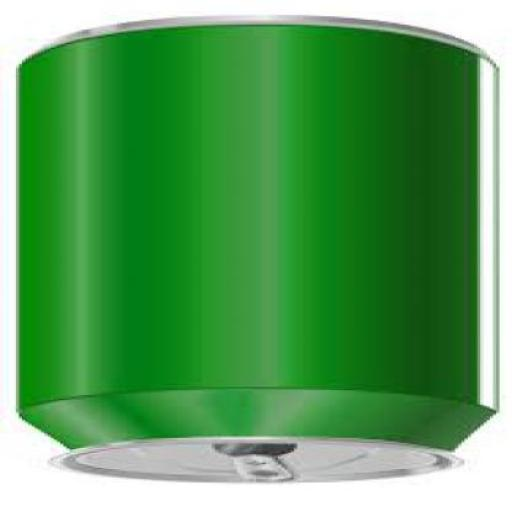metal: (15, 25, 493, 486)
